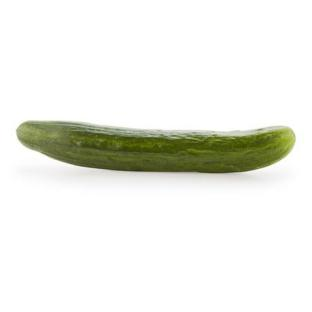Cucumber: (17, 121, 295, 172)
